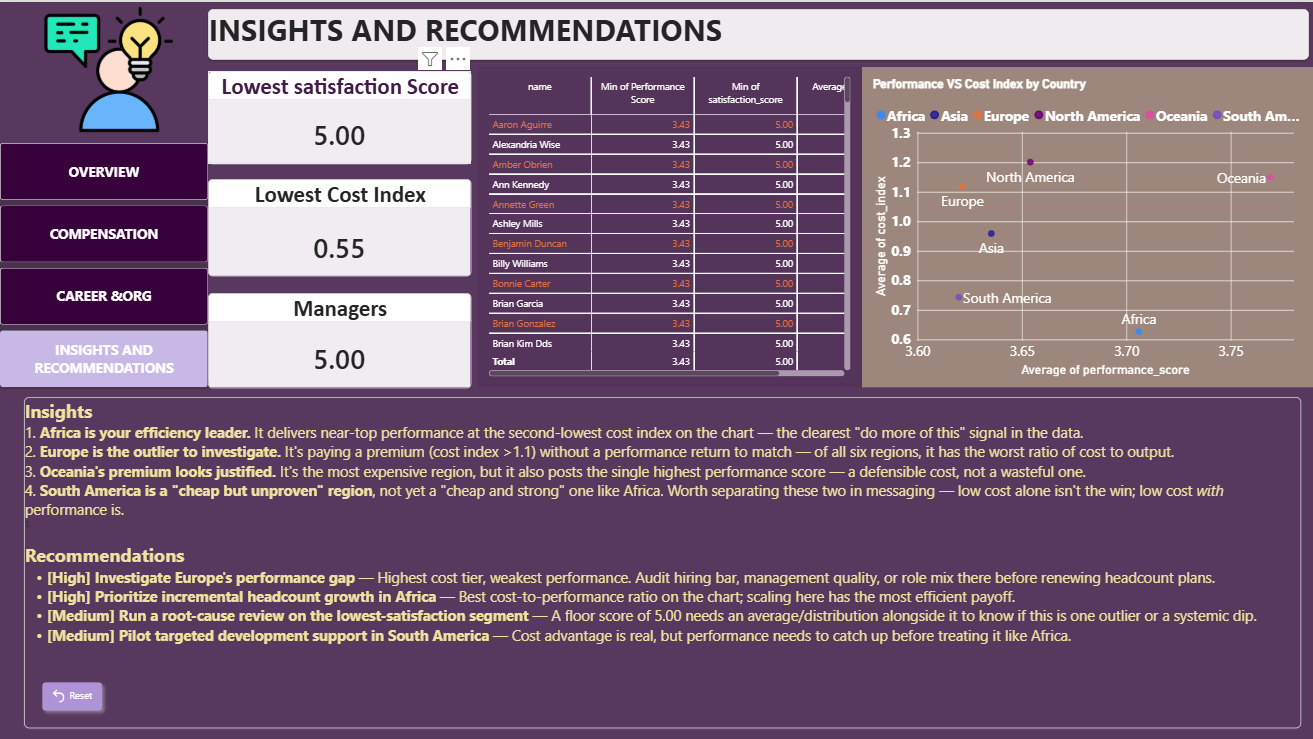

Layout of this report page (visuals, bound fields, positions):
{"tool":"powerbi","page":{"name":"INSIGHTS AND RECOMMENDATIONS ","canvas":[1920,1080],"ordinal":3},"visuals":[{"type":"textbox","box":[303.5,10.2,1604.9,74.4],"z":0},{"type":"cardVisual","title":"Lowest satisfaction Score","fields":{"Data":["employees.Lowest satisfaction Score"]},"box":[303.7,101.2,383.7,135.5],"z":1000},{"type":"cardVisual","title":"Managers","fields":{"Data":["Measure Table.Lowest Satisfaction by Manager"]},"box":[303.7,424.5,383.7,138.8],"z":2000},{"type":"cardVisual","title":"Lowest Cost Index","fields":{"Data":["Measure Table.Lowest Cost Index"]},"box":[303.7,258,383.7,142],"z":3000},{"type":"scatterChart","title":"Performance VS Cost Index by Country","fields":{"X":["Avg(employees.performance_score)"],"Y":["Avg(employees.cost_index)"],"Category":["employees.Continent"],"Series":["employees.Continent"]},"box":[1256,94.9,664,467.3],"z":4000},{"type":"image","box":[34.3,0,247.5,195.3],"z":5000},{"type":"pivotTable","fields":{"Values":["Min(Lowest Satisfied Emp Grouped by Performance.Performance Score)","Min(Lowest Satisfied Emp Grouped by Performance.satisfaction_score)","Avg(Lowest Satisfied Emp Grouped by Performance.Salary)"],"Rows":["employees.name"]},"box":[697.4,94.9,558.6,467.3],"z":6000},{"type":"textbox","box":[35.1,576.2,1862,483.1],"z":7000},{"type":"actionButton","box":[52.6,982.1,105.5,59.8],"z":8000},{"type":"pageNavigator","box":[0,204.9,303.1,359.3],"z":9000}]}

Visuals, with their boxes in screenshot pixels (x1, y1, x2, y2), scaled from the page's 1920x1080 canvas onto the 1313x739 screenshot:
textbox: (208, 7, 1305, 58)
"Lowest satisfaction Score" cardVisual: (208, 69, 470, 162)
"Managers" cardVisual: (208, 290, 470, 385)
"Lowest Cost Index" cardVisual: (208, 177, 470, 274)
"Performance VS Cost Index by Country" scatterChart: (859, 65, 1312, 385)
image: (23, 0, 193, 134)
pivotTable - Min(Lowest Satisfied Emp Grouped by Performance.Performance Score) x Min(Lowest Satisfied Emp Grouped by Performance.satisfaction_score): (477, 65, 859, 385)
textbox: (24, 394, 1297, 725)
actionButton: (36, 672, 108, 713)
pageNavigator: (0, 140, 207, 386)
